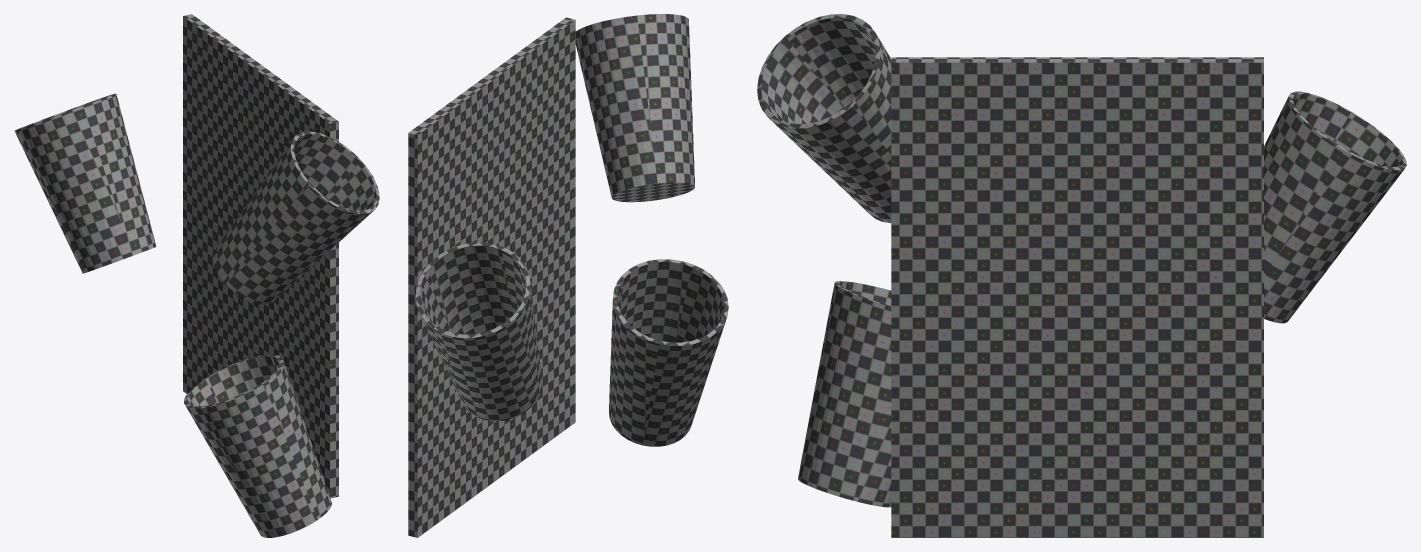
The model's file is 001-identity.glb.
The picture shows the model from 3 angles, left to right: view 1: azimuth 30°, elevation 25°; view 2: azimuth 150°, elevation 25°; view 3: azimuth 270°, elevation 25°; orthographic projection. The views are drawn at different scales.
Visible parts, largest first — view 1: Poster, Cup-002, Cup-001, Cup-003; view 2: Poster, Cup-002, Cup-001, Cup-003; view 3: Poster, Cup-003, Cup-002, Cup-001.
Boxes of the visible parts, x1,y1,x2,y2 form: Poster: (183, 14, 338, 498); Cup-002: (212, 131, 379, 304); Cup-001: (184, 354, 331, 537); Cup-003: (14, 93, 156, 273); Poster: (408, 17, 575, 537); Cup-002: (575, 14, 694, 202); Cup-001: (609, 259, 728, 446); Cup-003: (415, 242, 542, 421); Poster: (891, 57, 1263, 537); Cup-003: (1264, 91, 1406, 323); Cup-002: (757, 14, 891, 223); Cup-001: (798, 281, 891, 507).
Size of the model in its own units: 1.46 by 3.48 by 4.14.
1 material, 1 textured.
